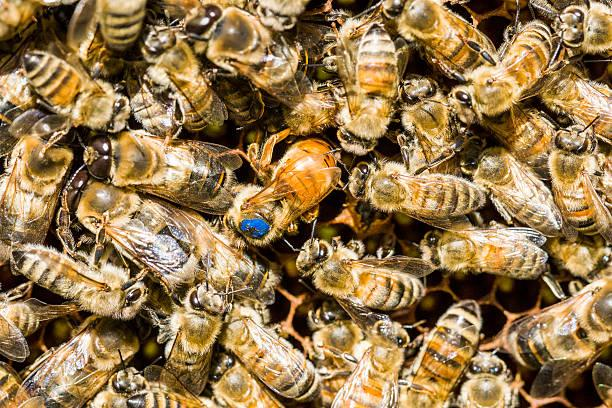Queen-Bee: (224, 130, 341, 245)
worker-bee: (75, 179, 247, 290), (84, 130, 241, 214), (296, 238, 433, 331), (186, 4, 310, 105), (324, 10, 408, 155), (21, 315, 139, 407), (10, 244, 147, 319), (450, 21, 555, 117), (460, 137, 561, 236), (0, 135, 73, 260), (348, 161, 485, 227), (141, 27, 227, 130), (23, 50, 129, 132), (222, 316, 319, 400), (157, 283, 230, 394), (548, 125, 611, 242), (420, 227, 547, 279)
